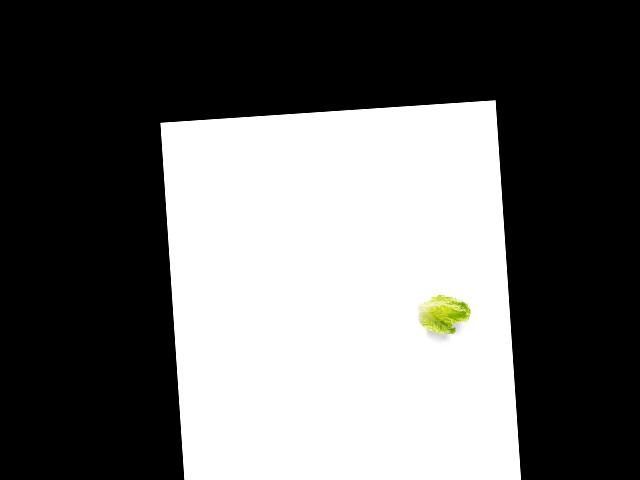lettuce: (411, 290, 475, 337)
